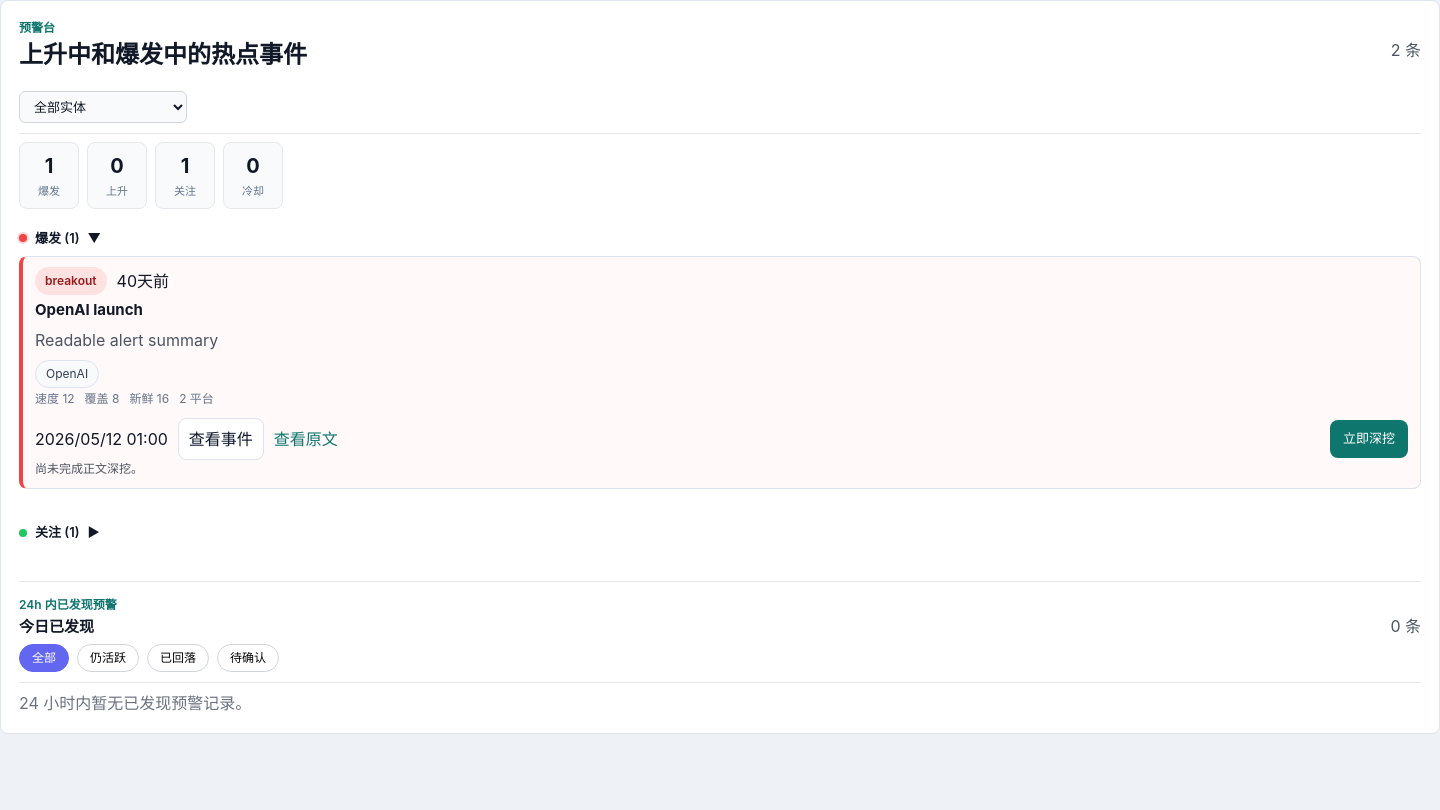
Test case: AlertsPage › filters via stats row
The image size is (1440, 810).
Click the text "关注".
click(185, 191)  # box [174,183,196,200]
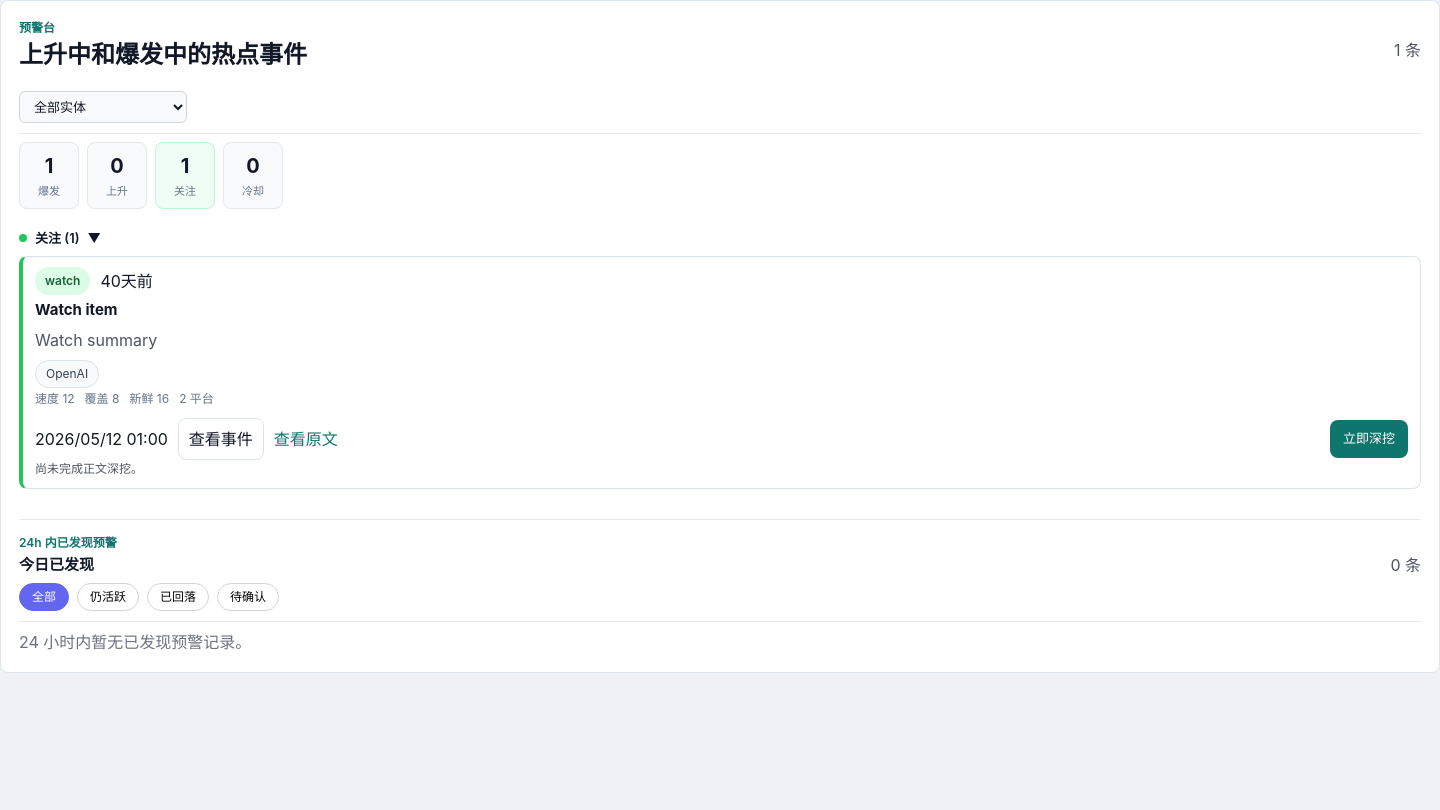
Result: the text "Readable alert summary" is gone
Result: the text "Watch item" is shown at [35,300,118,319]
